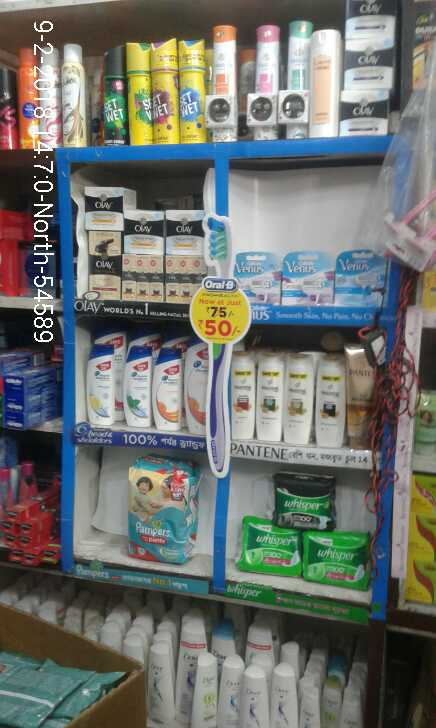venus: (389, 203, 436, 263), (334, 252, 382, 307), (287, 252, 334, 307), (242, 252, 287, 303)
